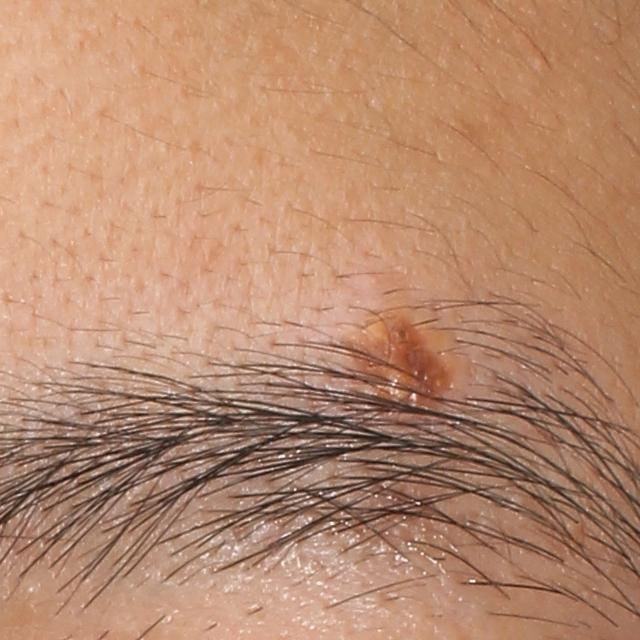other: (338, 299, 461, 413)
